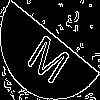M: (25, 25, 77, 87)
